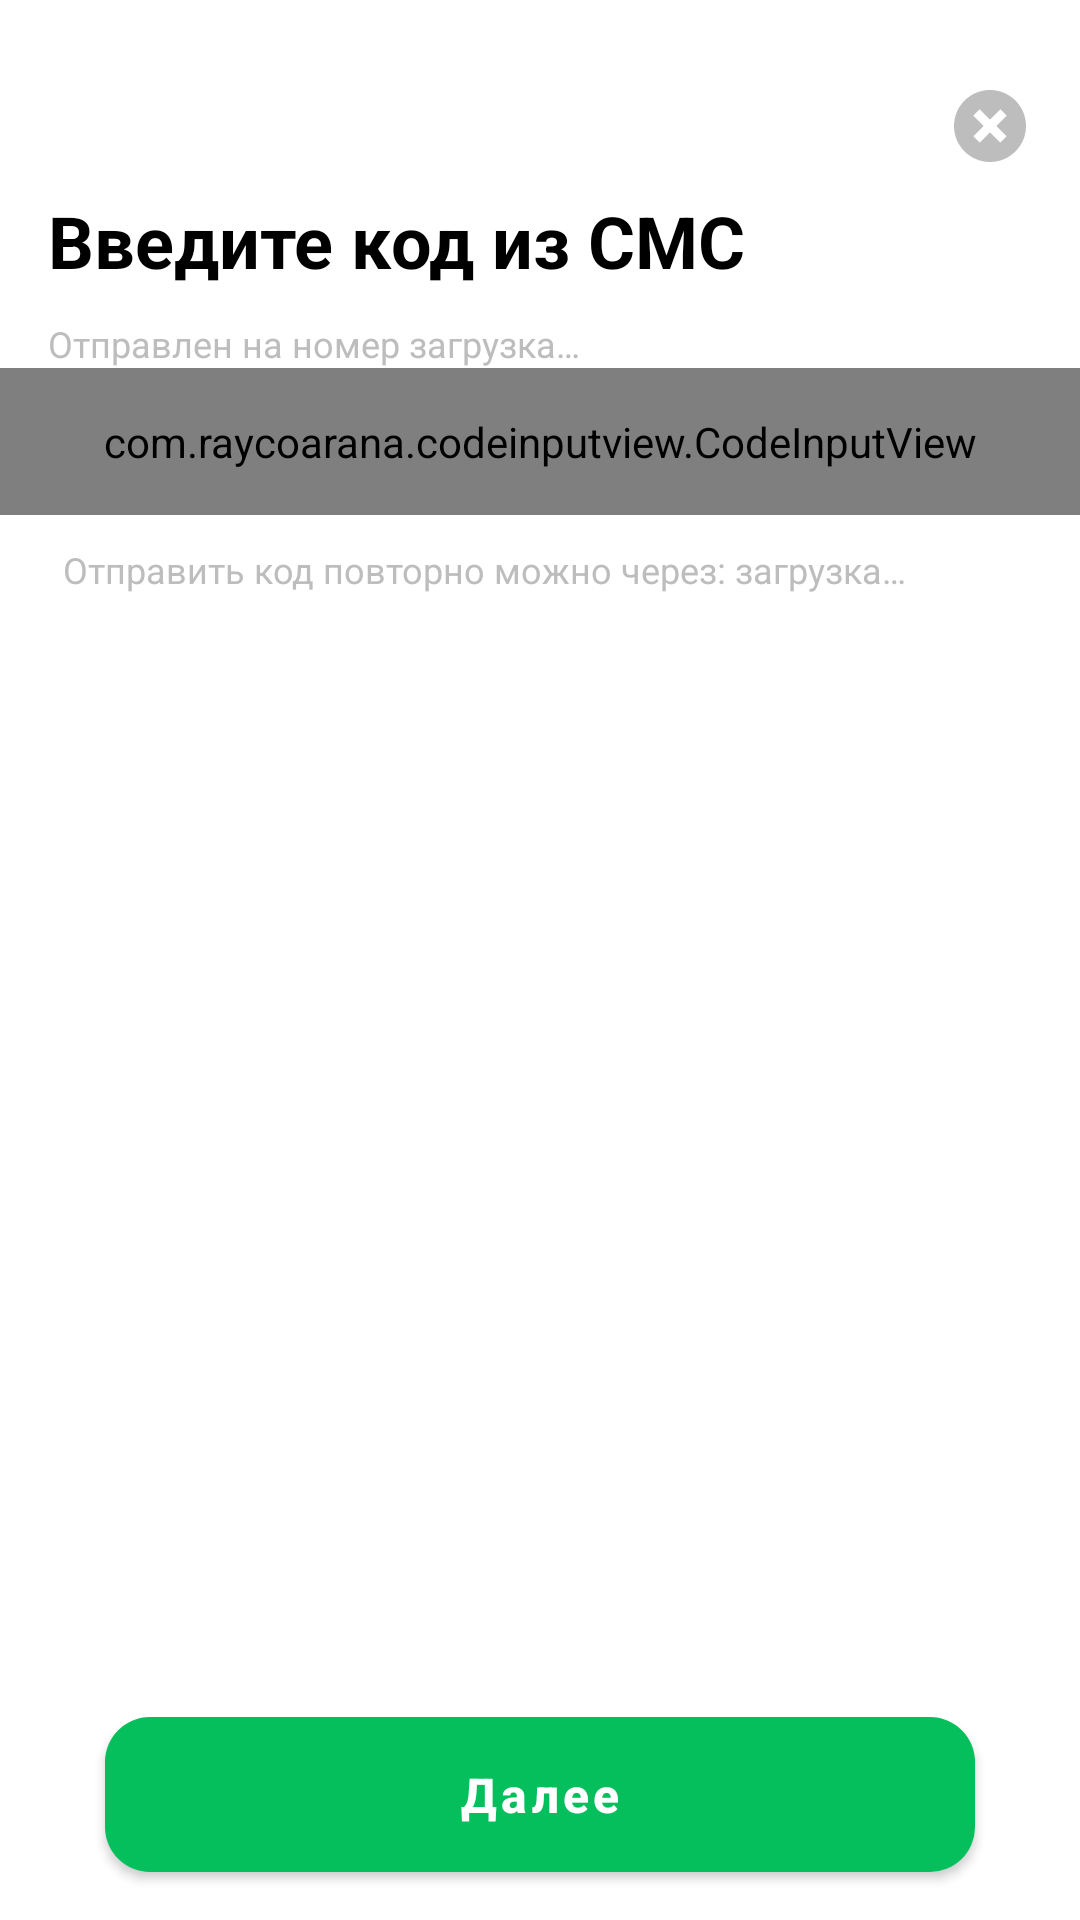

Named icons in this screenshot (1080x1920) and their bounding boxes, (x1, y1, x2, y2):
close: (954, 90, 1026, 162)
